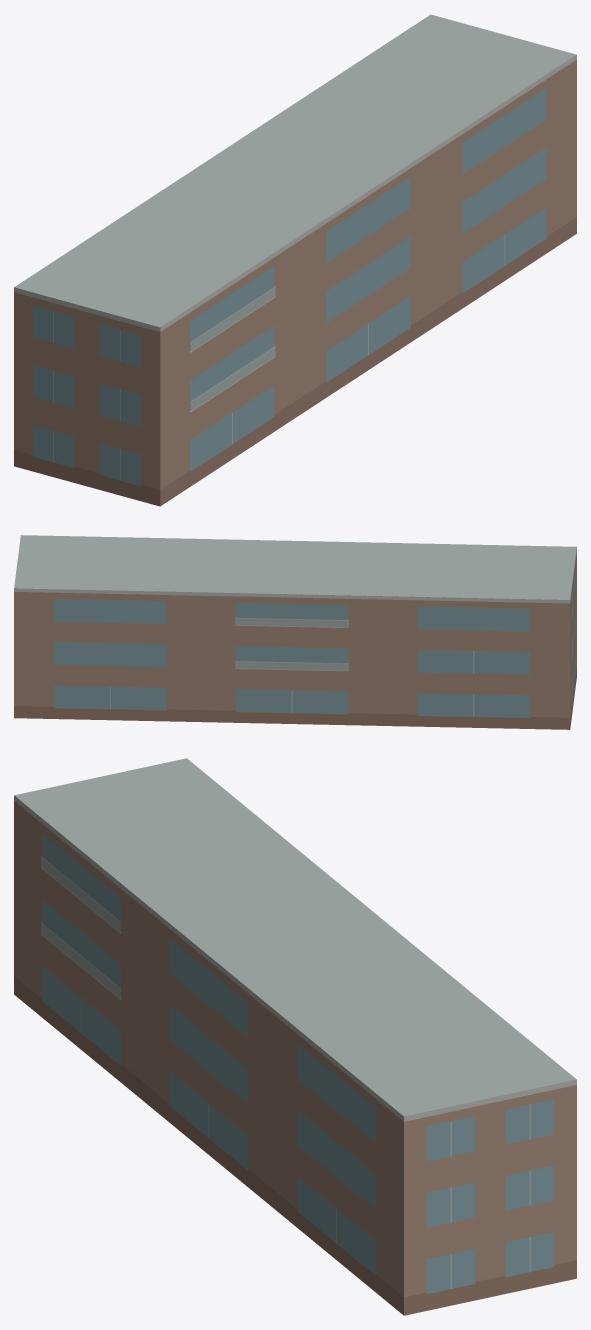
The model's file is survey-upis-32906223.glb.
3 views of the same model, one above another, from view 1: azimuth 30°, elevation 25°; view 2: azimuth 150°, elevation 25°; view 3: azimuth 270°, elevation 25° (orthographic). The views are drawn at different scales.
Parts seen in each view (by area): view 1: survey-upis-32906223.tmp; view 2: survey-upis-32906223.tmp; view 3: survey-upis-32906223.tmp.
Boxes of the visible parts, x1=… form: survey-upis-32906223.tmp: x1=14, y1=14, x2=576, y2=506; survey-upis-32906223.tmp: x1=14, y1=535, x2=576, y2=729; survey-upis-32906223.tmp: x1=14, y1=758, x2=576, y2=1315.
Bounding box in the file's own units: 35.33 × 9.15 × 23.45.
